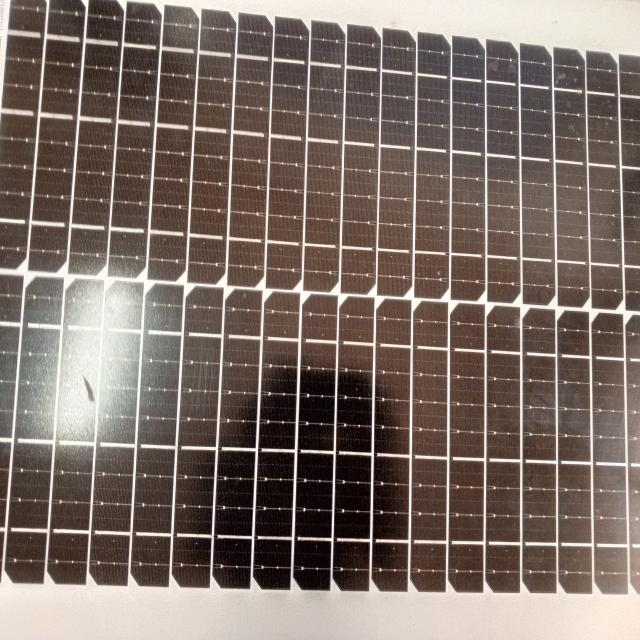Clean: (116, 1, 640, 619)
